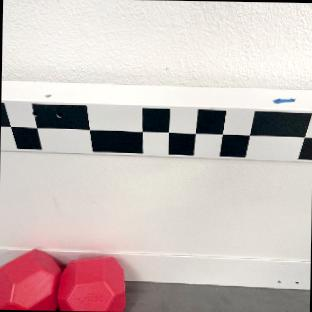V5_RED: (0, 247, 125, 311)
